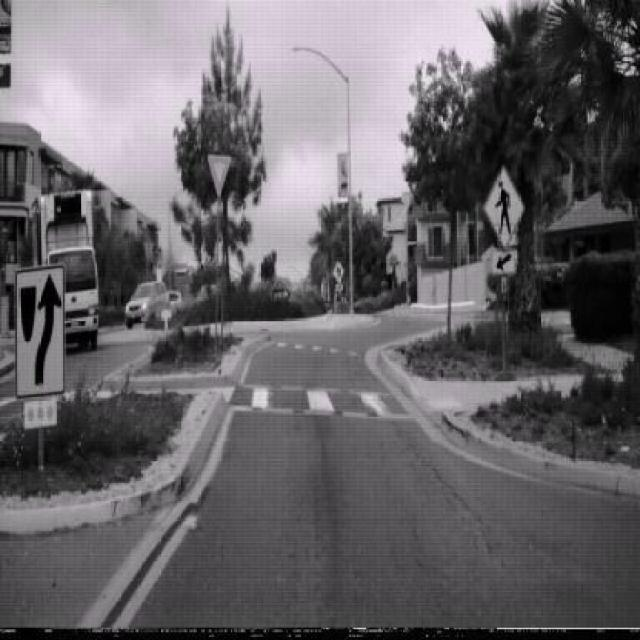keepRight: (14, 262, 65, 402)
pedestrianCrossing: (483, 163, 525, 250), (332, 258, 346, 284)
yield: (208, 154, 232, 198)
